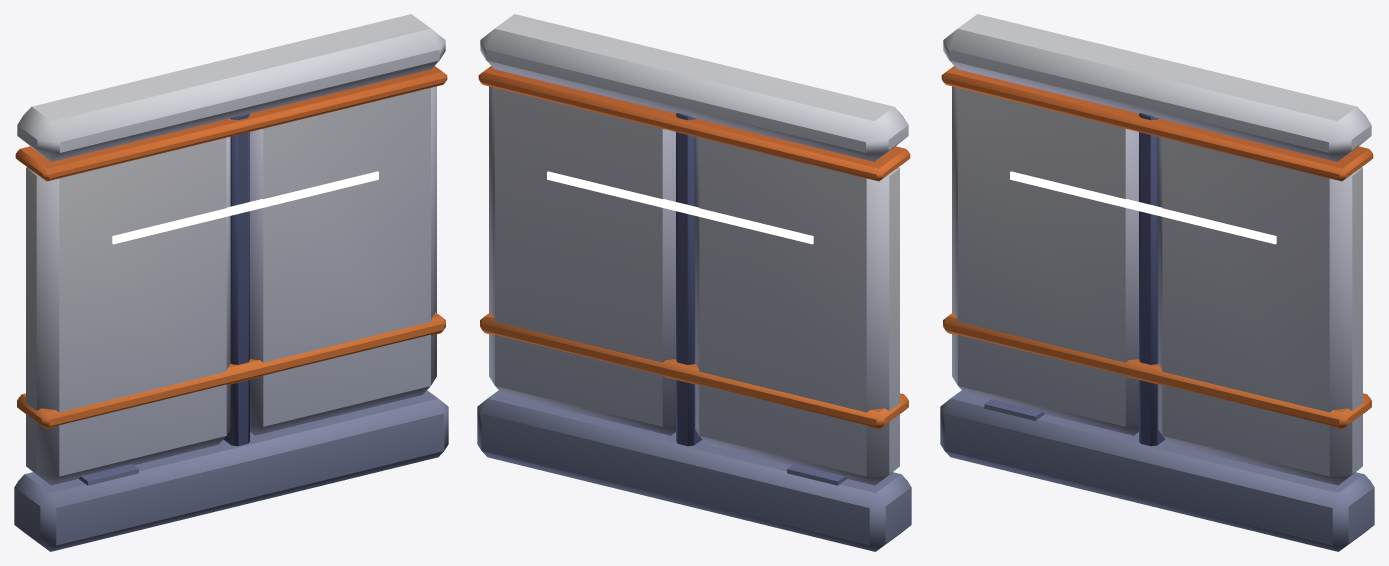
The model's file is hub_ruin_wall_straight.glb.
3 renders of one model, left to right at view 1: azimuth 30°, elevation 25°; view 2: azimuth 150°, elevation 25°; view 3: azimuth 330°, elevation 25°, orthographic.
Parts seen in each view (by area): view 1: hub_ruin_wall_straight; view 2: hub_ruin_wall_straight; view 3: hub_ruin_wall_straight.
Part boxes in pixels (box(x1,y1,x2,y2)): hub_ruin_wall_straight: box(14, 14, 448, 551); hub_ruin_wall_straight: box(477, 14, 911, 551); hub_ruin_wall_straight: box(940, 14, 1374, 551).
Size of the model in its own units: 4 by 4 by 0.64.
